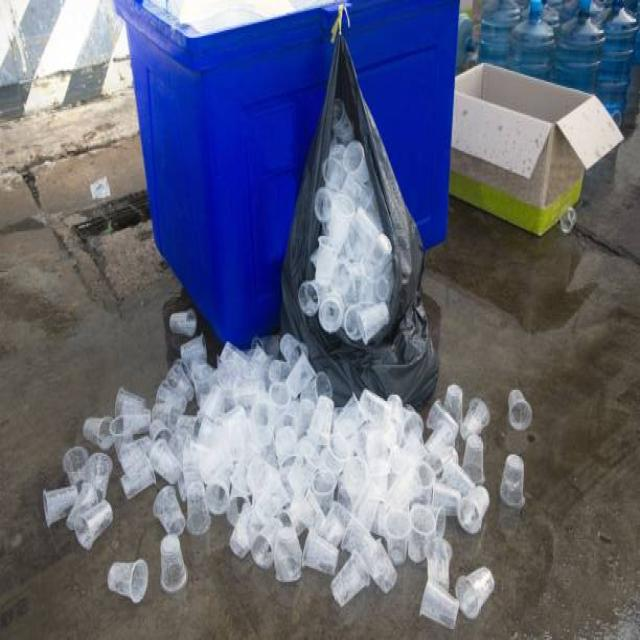plastic: (59, 411, 514, 614)
trash: (278, 42, 461, 396)
